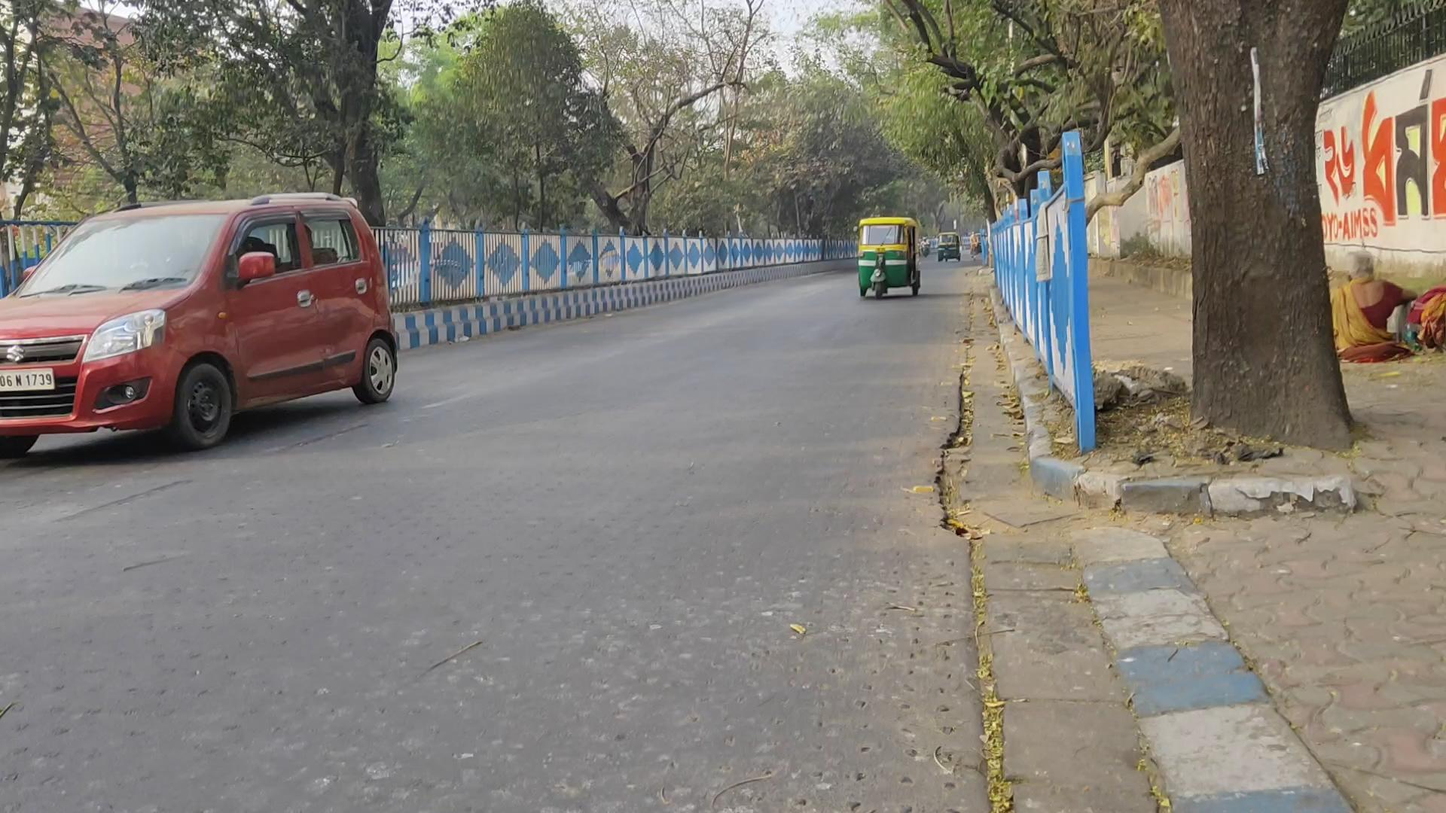Auto: (856, 216, 923, 299), (935, 230, 962, 263)
car: (1, 191, 400, 467)
